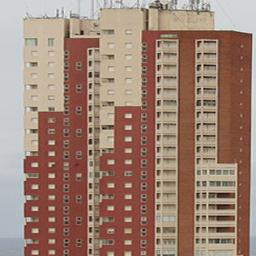building: (21, 0, 249, 256)
